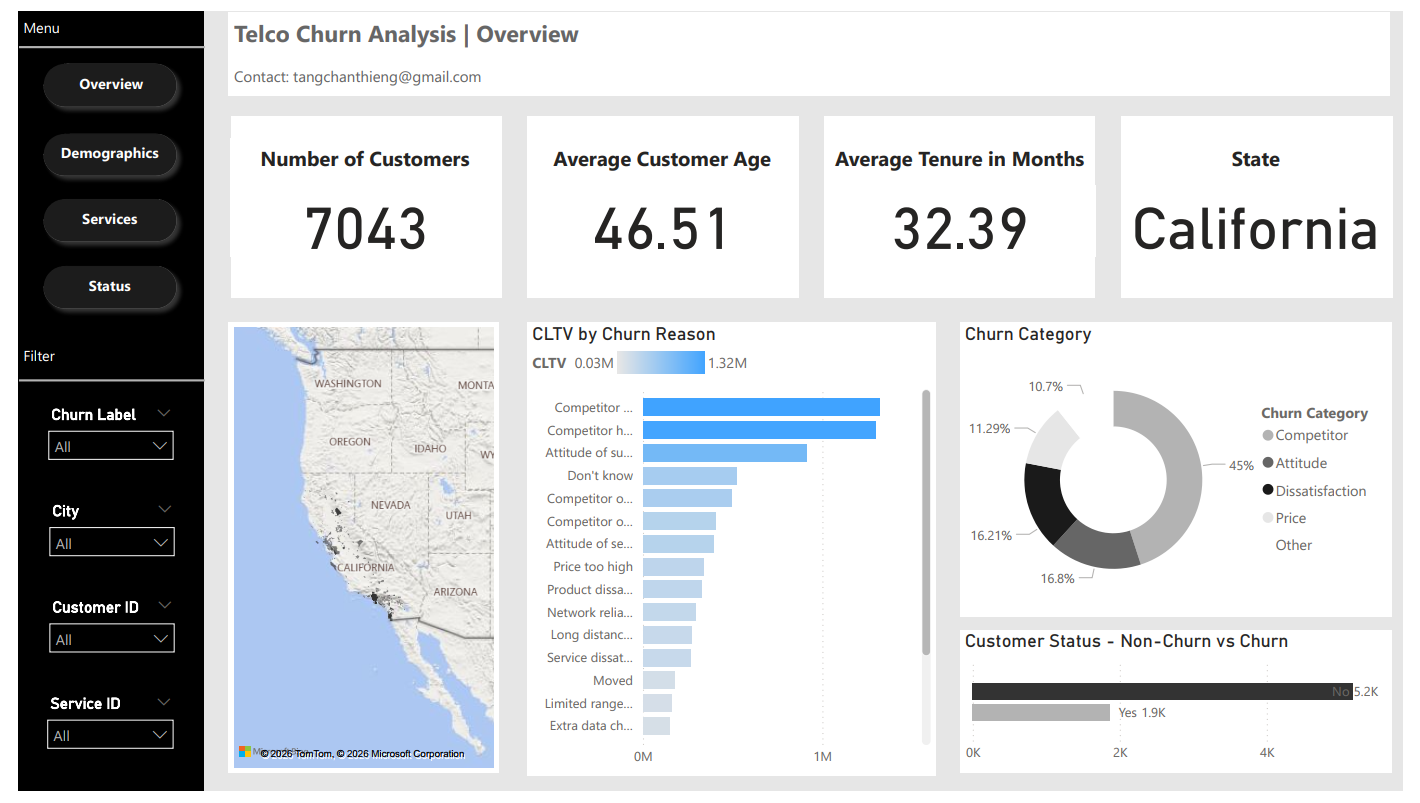

Layout of this report page (visuals, bound fields, positions):
{"tool":"powerbi","page":{"name":"Overview","canvas":[1280,720],"ordinal":0},"visuals":[{"type":"group","id":"g1","title":"Group 1","box":[196.9,95.9,1073,167.9],"z":0},{"type":"shape","box":[1020.2,95.9,250.3,168],"z":0,"group":"g1"},{"type":"shape","box":[0,0,171.8,720.2],"z":1000},{"type":"shape","box":[745.8,95.9,250.3,168],"z":1000,"group":"g1"},{"type":"textbox","box":[195.1,0,1073.6,77.3],"z":2000},{"type":"shape","box":[471.3,95.9,250.3,168],"z":2000,"group":"g1"},{"type":"shape","box":[196.9,95.9,250.3,168],"z":3000,"group":"g1"},{"type":"filledMap","fields":{"Y":["Avg(Location.Latitude)"],"X":["Avg(Location.Longitude)"],"Category":["Location.City"]},"box":[195.1,287.1,250.3,416],"z":3000},{"type":"textbox","box":[195.7,117.4,249.9,42.9],"z":4000},{"type":"card","fields":{"Values":["Sum(Demographics.Count)"]},"box":[195.7,160.3,251.2,65.6],"z":5000},{"type":"textbox","box":[470.8,117.4,249.9,42.9],"z":6000},{"type":"card","fields":{"Values":["Avg(Demographics.Age)"]},"box":[470.8,160.3,251.2,65.6],"z":7000},{"type":"textbox","box":[746,117.4,249.9,42.9],"z":8000},{"type":"card","fields":{"Values":["Avg(Services.Tenure in Months)"]},"box":[746,160.3,251.2,65.6],"z":9000},{"type":"textbox","box":[1020,117.4,249.9,42.9],"z":10000},{"type":"card","fields":{"Values":["Min(Location.State)"]},"box":[1020,160.3,249.9,65.6],"z":11000},{"type":"donutChart","title":"Churn Category","fields":{"Category":["Status.Churn Category"],"Y":["Sum(Demographics.Count)"]},"box":[871,286.5,398.9,272.7],"z":12000},{"type":"barChart","title":"Customer Status - Non-Churn vs Churn","fields":{"Category":["Status.Churn Label"],"Y":["Sum(Demographics.Count)"]},"box":[871,570.6,398.9,132.5],"z":14000},{"type":"shape","box":[15.1,39.1,140.1,56.8],"z":15000},{"type":"textbox","box":[46.7,51.8,79.5,32.8],"z":16000},{"type":"shape","box":[15.1,103.5,140.1,56.8],"z":17000},{"type":"textbox","box":[24,116.1,122.4,32.8],"z":18000},{"type":"shape","box":[15.1,164.1,140.1,56.8],"z":19000},{"type":"textbox","box":[24,176.7,122.4,32.8],"z":20000},{"type":"shape","box":[15.1,226,140.1,56.8],"z":21000},{"type":"textbox","box":[24,238.6,122.4,32.8],"z":22000},{"type":"shape","box":[1.3,12.6,171.7,39.1],"z":23000},{"type":"textbox","box":[0,0,85.8,32.8],"z":24000},{"type":"slicer","fields":{"Values":["Status.Churn Label"]},"box":[17.7,358.5,136.3,64.4],"z":25000},{"type":"shape","box":[1.3,320.6,171.7,39.1],"z":26000},{"type":"textbox","box":[0,304.2,85.8,32.8],"z":27000},{"type":"slicer","fields":{"Values":["Location.City"]},"box":[18.9,447.8,136.3,64.4],"z":28000},{"type":"slicer","fields":{"Values":["Services.Customer ID"]},"box":[18.9,537.1,136.3,64.4],"z":29000},{"type":"slicer","fields":{"Values":["Services.Service ID"]},"box":[17.1,626.3,136.6,64.3],"z":30000},{"type":"clusteredBarChart","fields":{"Category":["Status.Churn Reason"],"Y":["Sum(Status.CLTV)"]},"box":[471.2,287.1,377.9,418.4],"z":30001}]}

Visuals, with their boxes on the page's 1280x720 design canvas (x1, y1, x2, y2). These are canvas units, not pixel positions in the 1420x803 screenshot, which may show the page scaled, cropped or inside an application window:
"Group 1" group: <bbox>197, 96, 1270, 264</bbox>
shape: <bbox>1020, 96, 1270, 264</bbox>
shape: <bbox>0, 0, 172, 720</bbox>
shape: <bbox>746, 96, 996, 264</bbox>
textbox: <bbox>195, 0, 1269, 77</bbox>
shape: <bbox>471, 96, 722, 264</bbox>
shape: <bbox>197, 96, 447, 264</bbox>
filledMap - Avg(Location.Latitude) x Avg(Location.Longitude): <bbox>195, 287, 445, 703</bbox>
textbox: <bbox>196, 117, 446, 160</bbox>
card - Sum(Demographics.Count): <bbox>196, 160, 447, 226</bbox>
textbox: <bbox>471, 117, 721, 160</bbox>
card - Avg(Demographics.Age): <bbox>471, 160, 722, 226</bbox>
textbox: <bbox>746, 117, 996, 160</bbox>
card - Avg(Services.Tenure in Months): <bbox>746, 160, 997, 226</bbox>
textbox: <bbox>1020, 117, 1270, 160</bbox>
card - Min(Location.State): <bbox>1020, 160, 1270, 226</bbox>
"Churn Category" donutChart: <bbox>871, 286, 1270, 559</bbox>
"Customer Status - Non-Churn vs Churn" barChart: <bbox>871, 571, 1270, 703</bbox>
shape: <bbox>15, 39, 155, 96</bbox>
textbox: <bbox>47, 52, 126, 85</bbox>
shape: <bbox>15, 104, 155, 160</bbox>
textbox: <bbox>24, 116, 146, 149</bbox>
shape: <bbox>15, 164, 155, 221</bbox>
textbox: <bbox>24, 177, 146, 210</bbox>
shape: <bbox>15, 226, 155, 283</bbox>
textbox: <bbox>24, 239, 146, 271</bbox>
shape: <bbox>1, 13, 173, 52</bbox>
textbox: <bbox>0, 0, 86, 33</bbox>
slicer - Status.Churn Label: <bbox>18, 358, 154, 423</bbox>
shape: <bbox>1, 321, 173, 360</bbox>
textbox: <bbox>0, 304, 86, 337</bbox>
slicer - Location.City: <bbox>19, 448, 155, 512</bbox>
slicer - Services.Customer ID: <bbox>19, 537, 155, 602</bbox>
slicer - Services.Service ID: <bbox>17, 626, 154, 691</bbox>
clusteredBarChart - Status.Churn Reason x Sum(Status.CLTV): <bbox>471, 287, 849, 706</bbox>
